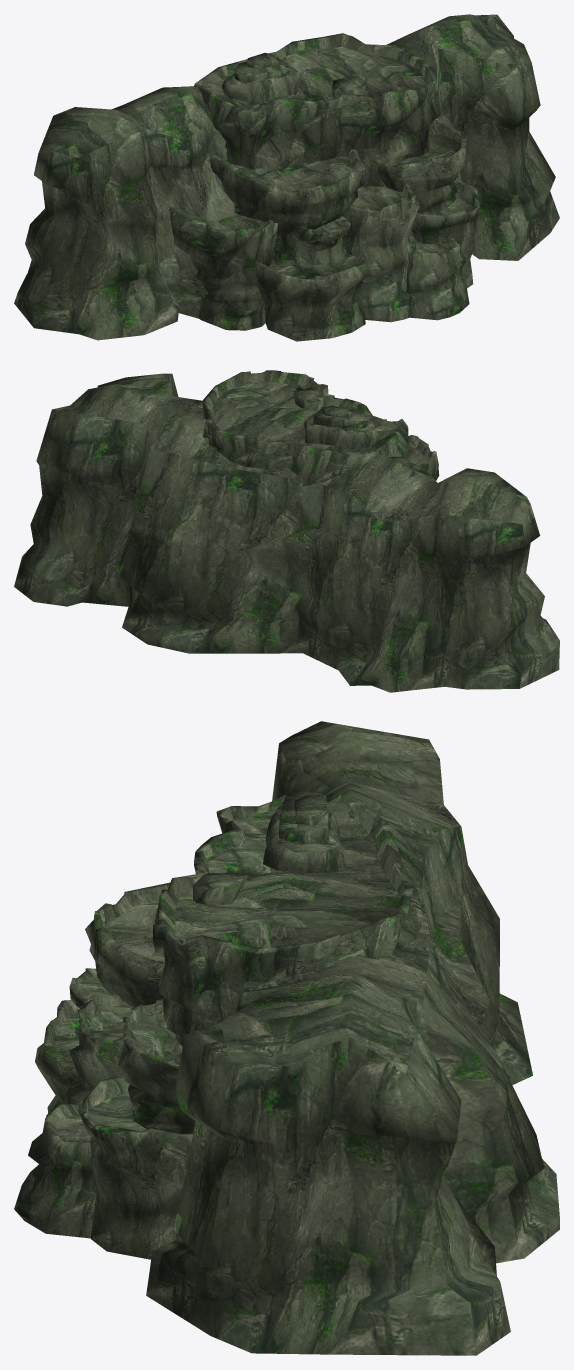
The model's file is pubushan.fbx.
3 views of the same model, one above another, from view 1: azimuth 30°, elevation 25°; view 2: azimuth 150°, elevation 25°; view 3: azimuth 270°, elevation 25° (orthographic). The views are drawn at different scales.
Visible parts, largest first — view 1: polySurface467; view 2: polySurface467; view 3: polySurface467.
Part boxes in pixels (left/top/right/bottom): polySurface467: left=14, top=14, right=559, bottom=341; polySurface467: left=14, top=370, right=559, bottom=692; polySurface467: left=14, top=721, right=559, bottom=1355.
Bounding box in the file's own units: 830 × 331 × 488.
